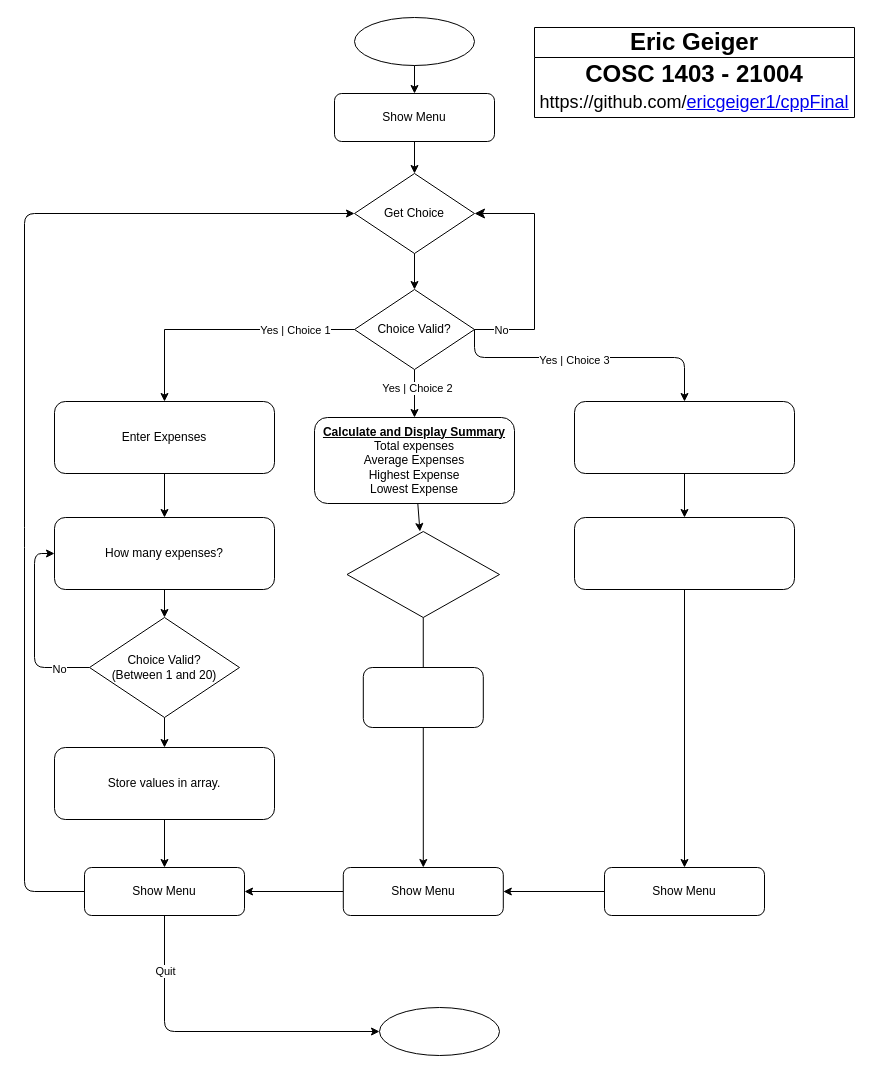
Some shapes in this 872 by 1073 pixel diagram are drawn without their labels. Each missing label, with the centre of its shape:
"Choice Valid? (Has any data been entered?)" belongs at (423,574).
"Display Expenses" belongs at (422,697).
"Exit / End" belongs at (439,1031).
"Save Summary" belongs at (684,437).
"Start" belongs at (414,41).
"Write Summary to Expenses.txt" belongs at (684,553).
